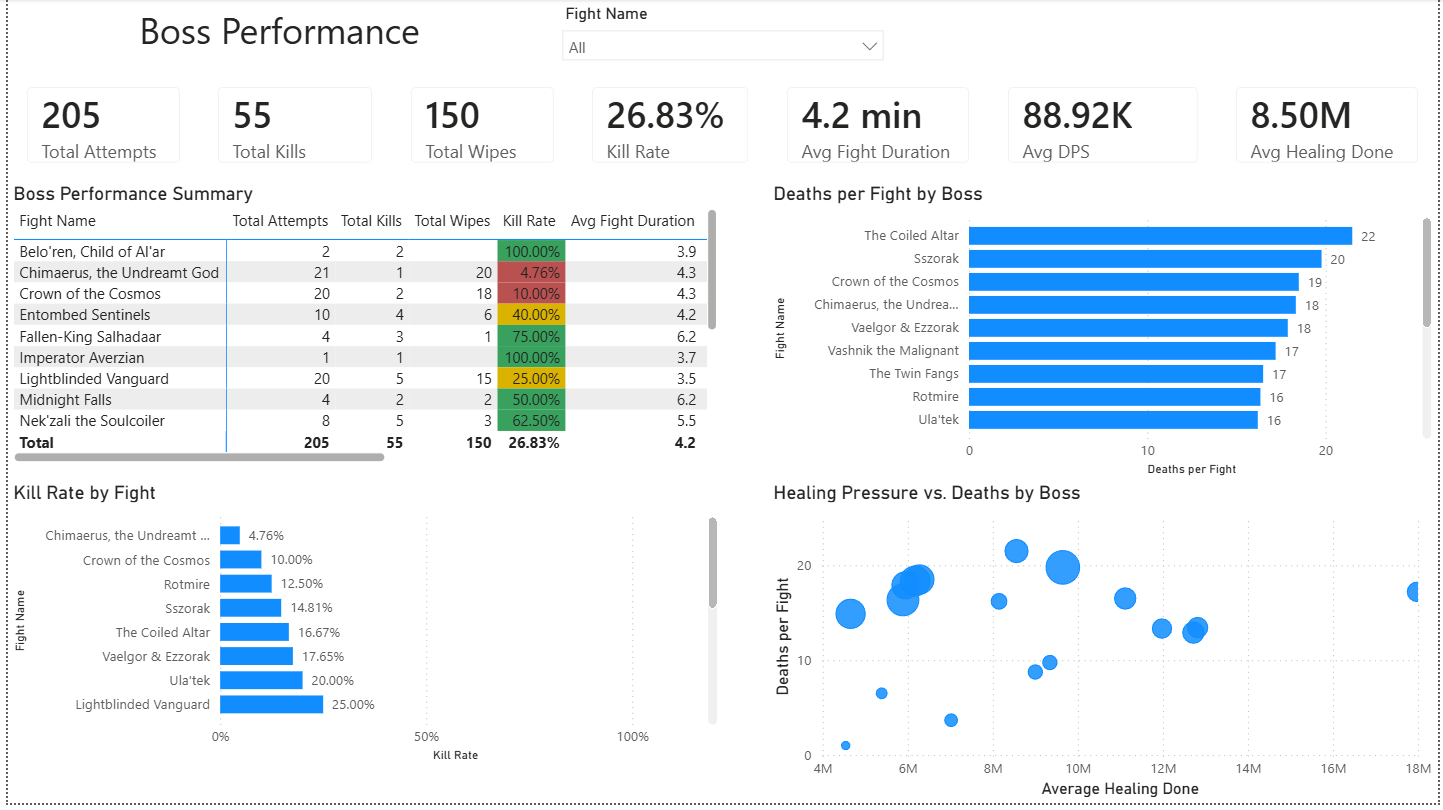

Layout of this report page (visuals, bound fields, positions):
{"tool":"powerbi","page":{"name":"Boss Performance","canvas":[1280,720],"ordinal":1},"visuals":[{"type":"slicer","fields":{"Values":["DimFight.Fight Name"]},"box":[486.3,0,308.1,61.8],"z":0},{"type":"cardVisual","fields":{"Data":["player_fight_master_COMPLETE.Total Fights"]},"box":[0,61.8,171,102.1],"z":1000},{"type":"cardVisual","fields":{"Data":["player_fight_master_COMPLETE.Total Kills"]},"box":[171,61.8,172.8,102.1],"z":2000},{"type":"cardVisual","fields":{"Data":["player_fight_master_COMPLETE.Total Wipes"]},"box":[343.9,61.8,162.1,102.1],"z":3000},{"type":"cardVisual","fields":{"Data":["player_fight_master_COMPLETE.Kill Rate"]},"box":[506,61.8,174.6,102.1],"z":4000},{"type":"cardVisual","fields":{"Data":["player_fight_master_COMPLETE.Average Fight Duration Minutes"]},"box":[680.6,61.8,197.9,102.1],"z":5000},{"type":"cardVisual","fields":{"Data":["player_fight_master_COMPLETE.Average DPS(DPS)"]},"box":[878.5,61.8,204.2,102.1],"z":6000},{"type":"cardVisual","fields":{"Data":["player_fight_master_COMPLETE.Average Healing Done"]},"box":[1082.7,61.8,197,102.1],"z":7000},{"type":"pivotTable","title":"Boss Performance Summary","fields":{"Rows":["DimFight.Fight Name"],"Values":["player_fight_master_COMPLETE.Total Fights","player_fight_master_COMPLETE.Total Kills","player_fight_master_COMPLETE.Total Wipes","player_fight_master_COMPLETE.Kill Rate","player_fight_master_COMPLETE.Average Fight Duration Minutes","player_fight_master_COMPLETE.Average DPS(DPS)","player_fight_master_COMPLETE.Average Healing Done","player_fight_master_COMPLETE.Average Damage Taken per Player-Fight"]},"box":[0,163.9,640.3,256.1],"z":8000},{"type":"clusteredBarChart","title":"Kill Rate by Fight","fields":{"Category":["DimFight.Fight Name"],"Y":["player_fight_master_COMPLETE.Kill Rate"]},"box":[0,432,640,256],"z":9000},{"type":"clusteredBarChart","title":"Deaths per Fight by Boss","fields":{"Category":["DimFight.Fight Name"],"Y":["player_death_events.Deaths per Fight"]},"box":[680.6,163.9,599.1,267.8],"z":10000},{"type":"scatterChart","title":"Healing Pressure vs. Deaths by Boss","fields":{"X":["player_fight_master_COMPLETE.Average Healing Done"],"Category":["DimFight.Fight Name"],"Y":["player_death_events.Deaths per Fight"],"Size":["player_fight_master_COMPLETE.Total Fights"]},"box":[680.6,431.6,599.1,288.4],"z":11000},{"type":"textbox","box":[0,0,486.3,61.8],"z":12000}]}

Visuals, with their boxes in screenshot pixels (x1, y1, x2, y2), scaled from the page's 1280x720 canvas onto the 1443x810 screenshot:
slicer - DimFight.Fight Name: left=548, top=0, right=896, bottom=70
cardVisual - player_fight_master_COMPLETE.Total Fights: left=0, top=70, right=193, bottom=184
cardVisual - player_fight_master_COMPLETE.Total Kills: left=193, top=70, right=388, bottom=184
cardVisual - player_fight_master_COMPLETE.Total Wipes: left=388, top=70, right=570, bottom=184
cardVisual - player_fight_master_COMPLETE.Kill Rate: left=570, top=70, right=767, bottom=184
cardVisual - player_fight_master_COMPLETE.Average Fight Duration Minutes: left=767, top=70, right=990, bottom=184
cardVisual - player_fight_master_COMPLETE.Average DPS(DPS): left=990, top=70, right=1221, bottom=184
cardVisual - player_fight_master_COMPLETE.Average Healing Done: left=1221, top=70, right=1442, bottom=184
"Boss Performance Summary" pivotTable: left=0, top=184, right=722, bottom=472
"Kill Rate by Fight" clusteredBarChart: left=0, top=486, right=722, bottom=774
"Deaths per Fight by Boss" clusteredBarChart: left=767, top=184, right=1442, bottom=486
"Healing Pressure vs. Deaths by Boss" scatterChart: left=767, top=486, right=1442, bottom=809
textbox: left=0, top=0, right=548, bottom=70
